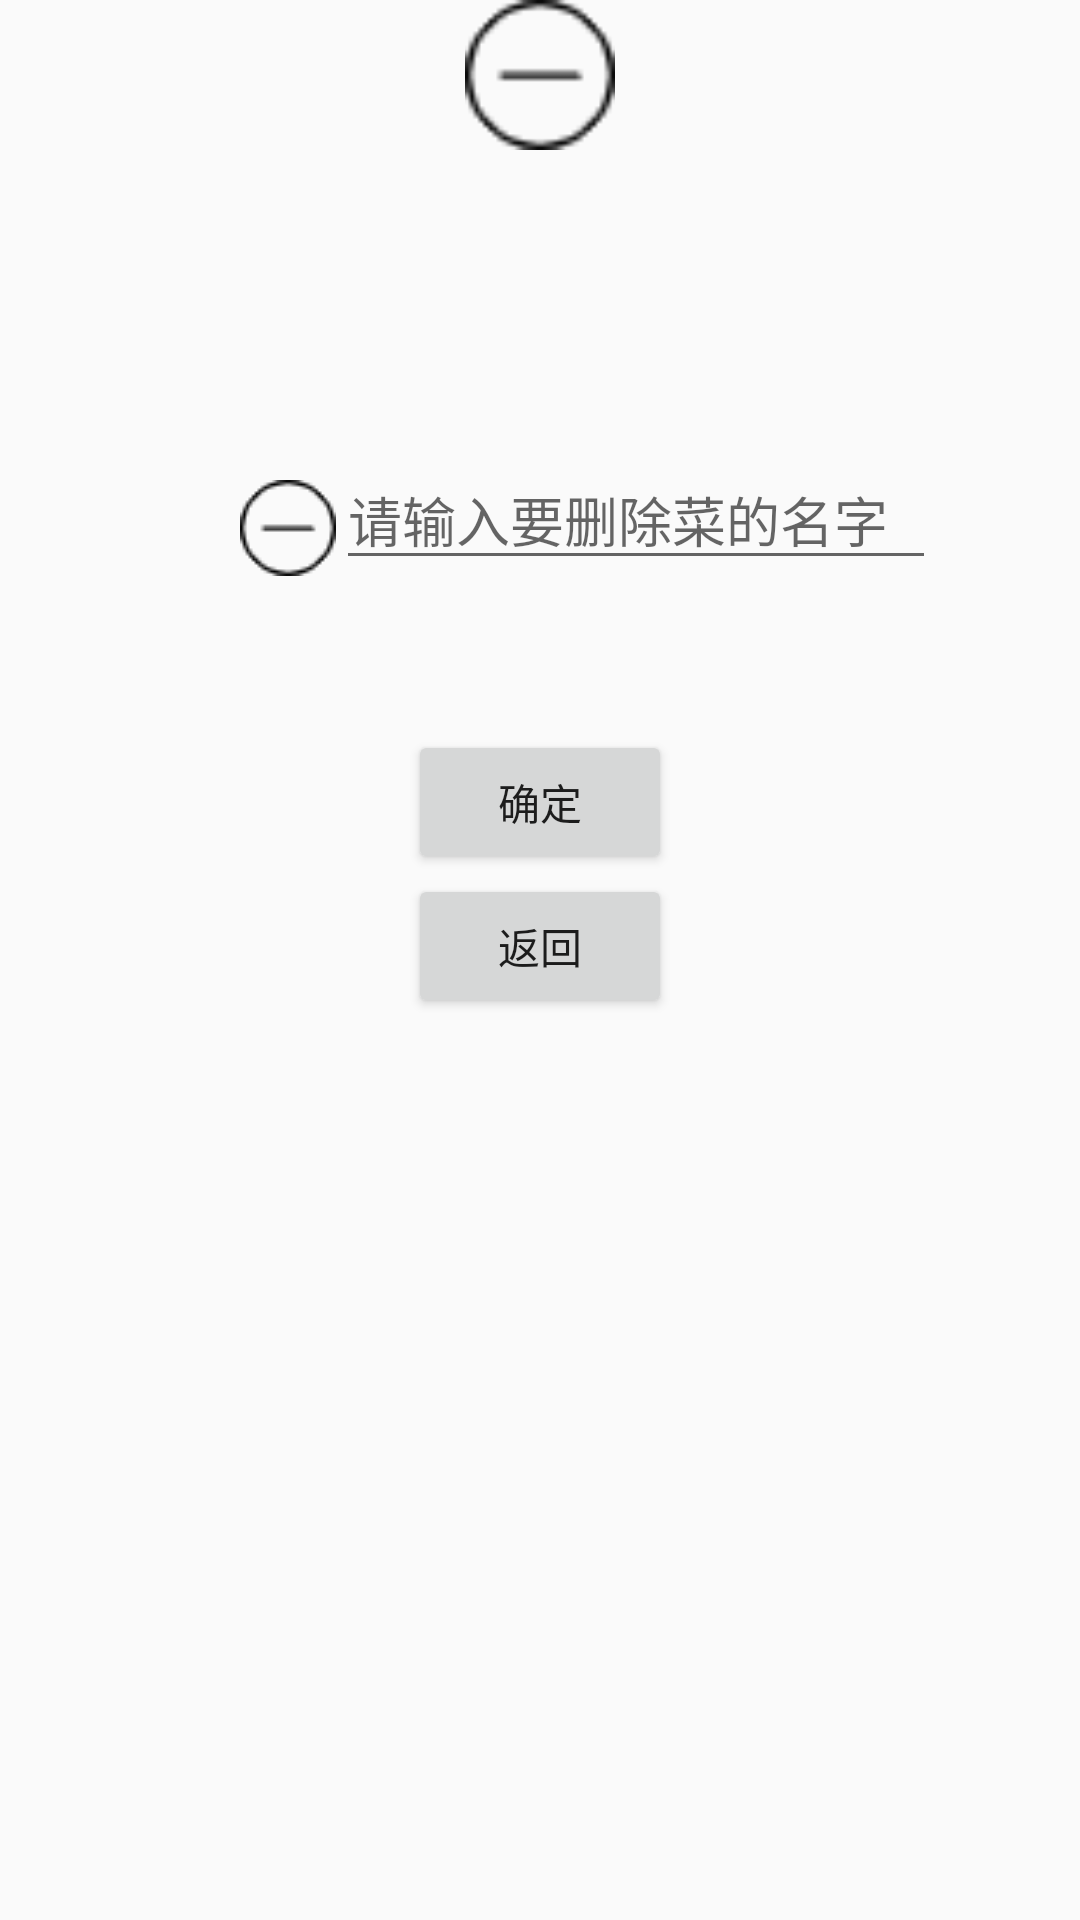

Point at icon controls on the screen. Image size 1080px×1920px, points as point (x, y).
delete: point (540, 75), point (288, 528)
